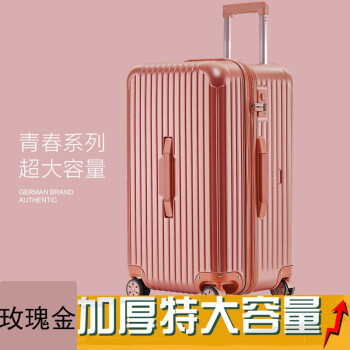box: (126, 59, 292, 296)
handle: (255, 136, 269, 217)
lock: (251, 87, 268, 120)
wheel: (125, 278, 150, 296), (270, 278, 295, 295)
